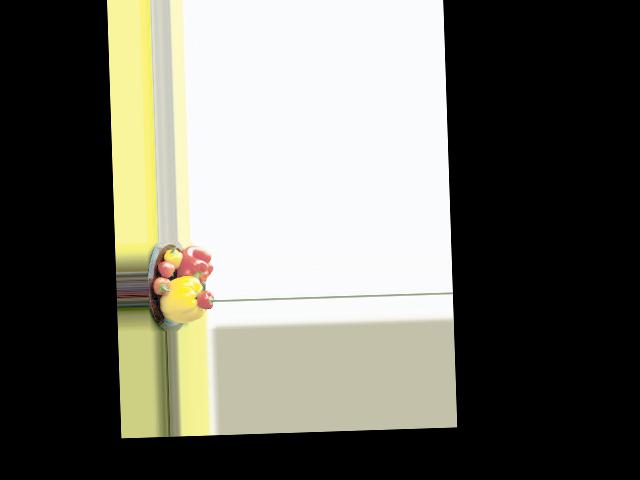bell_pepper: (164, 246, 183, 266)
